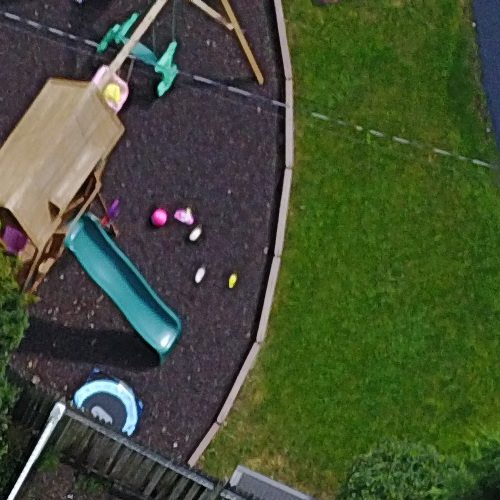toy: (61, 356, 163, 447), (168, 193, 195, 229), (184, 263, 211, 294), (182, 222, 207, 246), (147, 204, 170, 228), (226, 265, 244, 292)
